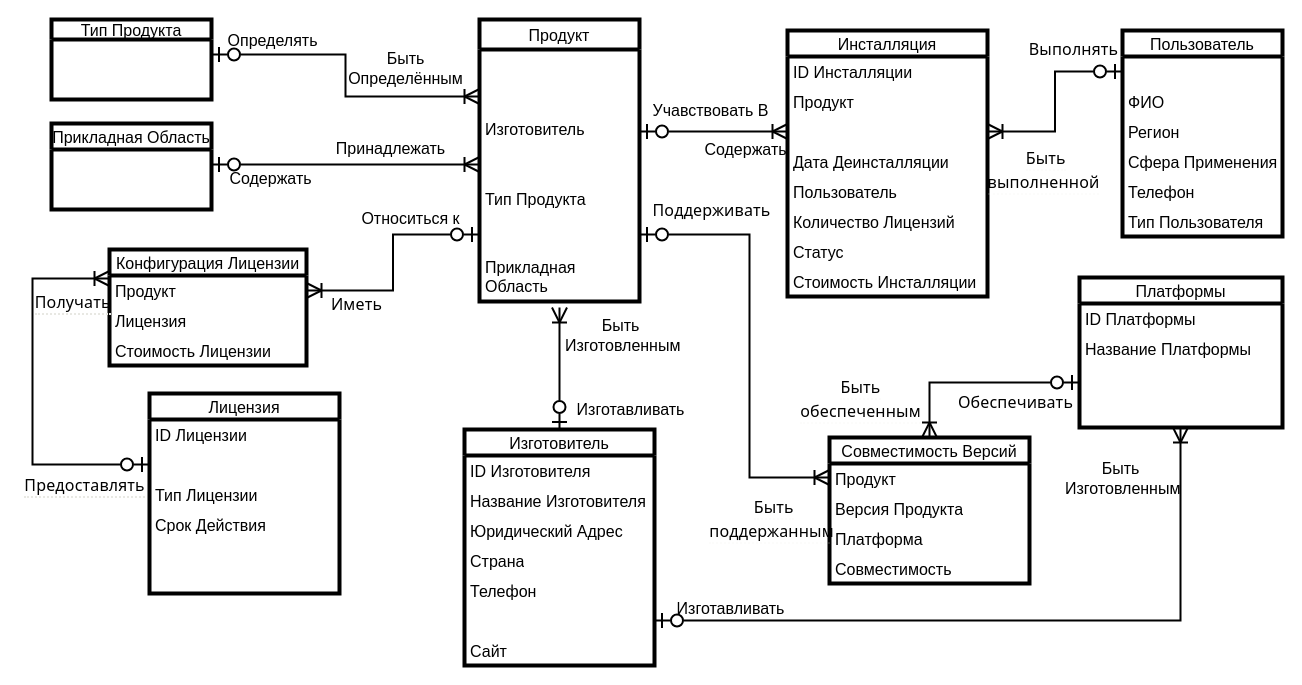
Some shapes in this 1302 by 685 pixel diagram are drawn without their labels. Each missing label, with the centre of its shape:
"ID Области" belongs at (x=131, y=164).
"ID Пользователя" belongs at (x=1202, y=71).
"ID Типа" belongs at (x=131, y=54).
"Архитектура" belongs at (x=1180, y=412).
"Версия" belongs at (x=559, y=166).
"Дата Выпуска" belongs at (x=559, y=234).
"Дата Инсталляции" belongs at (x=887, y=131).
"Название" belongs at (x=244, y=464).
"Название Области" belongs at (x=131, y=194).
"Название Продукта" belongs at (x=559, y=96).
"Название Типа" belongs at (x=131, y=84).
"Производитель" belongs at (x=1180, y=382).
"Условия Использования" belongs at (x=244, y=566).
"Электронная Почта" belongs at (x=559, y=620).
